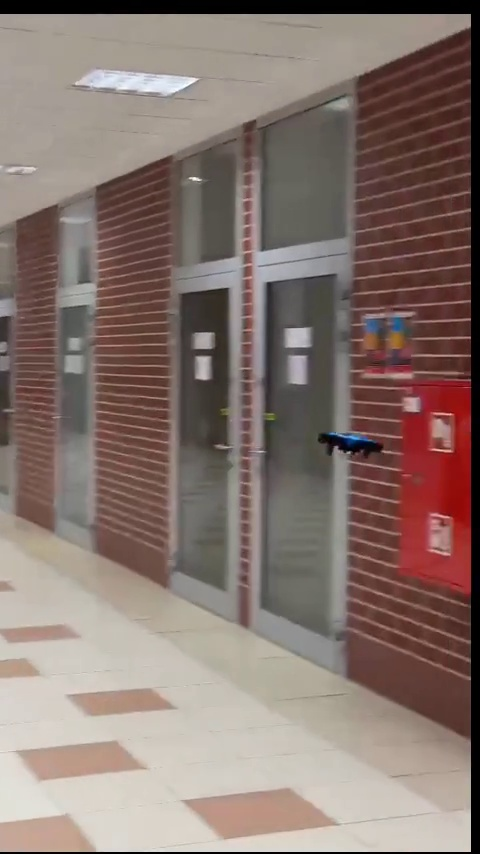drone: (315, 429, 385, 461)
